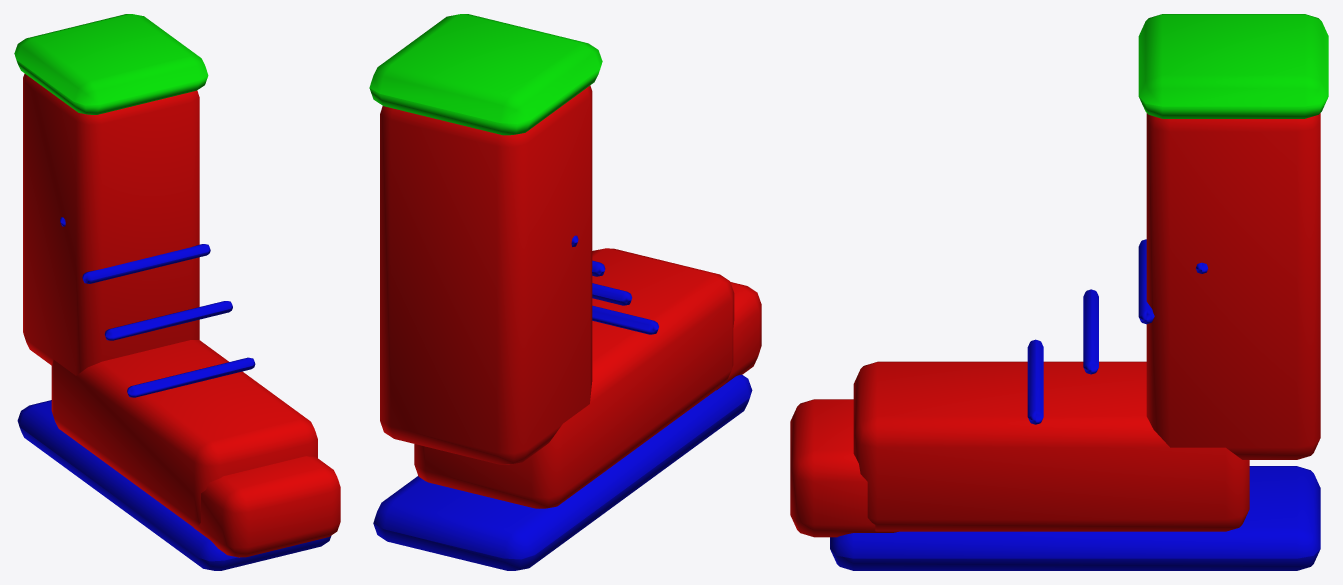
Rendered from fish_boot.glb.
3 views of the same model, side by side, from view 1: azimuth 30°, elevation 25°; view 2: azimuth 150°, elevation 25°; view 3: azimuth 270°, elevation 25° (orthographic). The views are drawn at different scales.
Parts seen in each view (by area): view 1: Body; view 2: Body; view 3: Body.
Part boxes in pixels (bbox=[...]): Body: bbox=[14, 14, 340, 570]; Body: bbox=[369, 14, 761, 570]; Body: bbox=[790, 14, 1328, 570].
Size of the model in its own units: 0.24 by 0.69 by 0.68.
